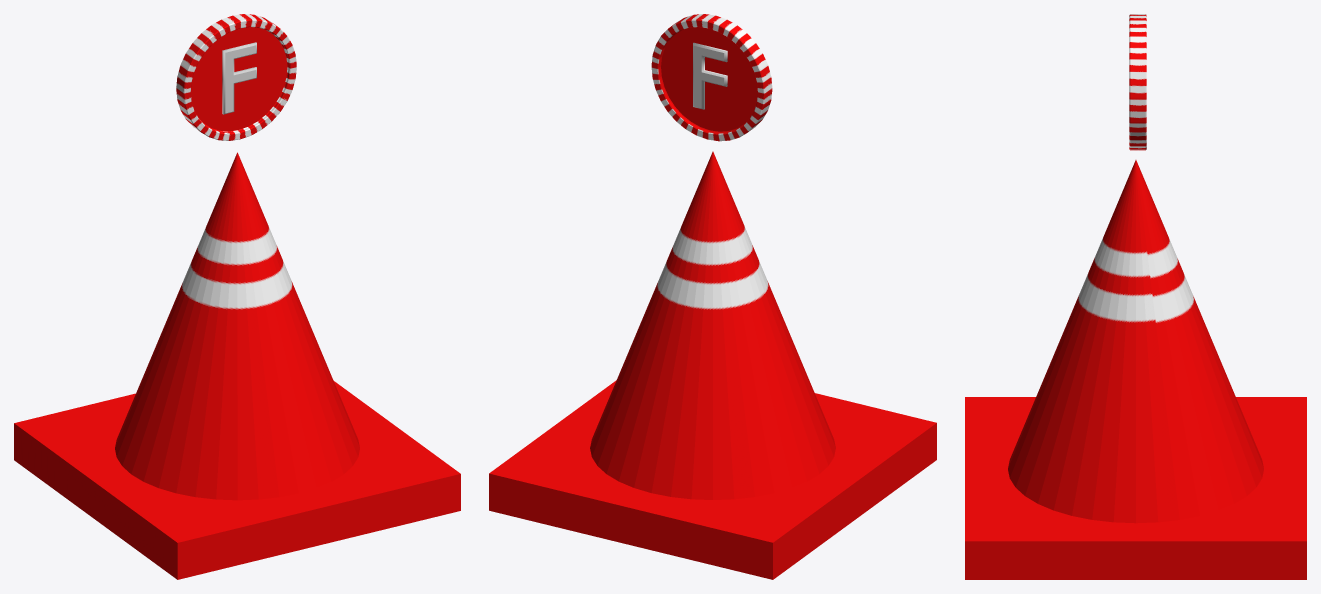
The model's file is cone_with_coin_F.dae.
The picture shows the model from 3 angles, left to right: view 1: azimuth 30°, elevation 25°; view 2: azimuth 150°, elevation 25°; view 3: azimuth 270°, elevation 25°; orthographic projection. The views are drawn at different scales.
Parts seen in each view (by area): view 1: Sankaku_Cone, Cylinder_001, Text_003; view 2: Sankaku_Cone, Cylinder_001, Text_000; view 3: Sankaku_Cone, Cylinder_001.
Boxes of the visible parts, bbox=[...] form: Sankaku_Cone: bbox=[14, 152, 460, 579]; Cylinder_001: bbox=[176, 14, 296, 140]; Text_003: bbox=[222, 42, 256, 114]; Sankaku_Cone: bbox=[489, 151, 936, 579]; Cylinder_001: bbox=[651, 14, 772, 141]; Text_000: bbox=[693, 42, 727, 109]; Sankaku_Cone: bbox=[965, 160, 1306, 579]; Cylinder_001: bbox=[1129, 14, 1146, 150].
Bounding box in the file's own units: 0.4 × 0.4 × 0.6295.
Materials: 2 (2 with a texture image).
